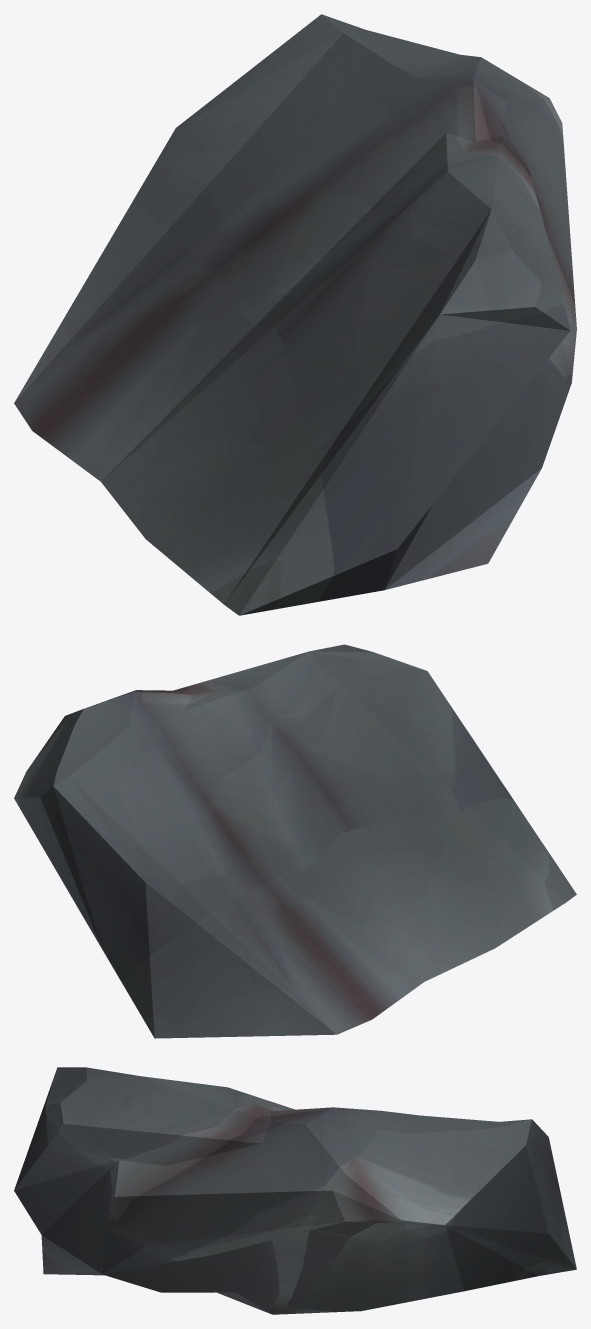
Rendered from SM_Kicker.fbx.
3 renders of one model, top to bottom at view 1: azimuth 30°, elevation 25°; view 2: azimuth 150°, elevation 25°; view 3: azimuth 270°, elevation 25°, orthographic. The views are drawn at different scales.
Parts seen in each view (by area): view 1: SM_Rock01; view 2: SM_Rock01; view 3: SM_Rock01.
Part boxes in pixels (<box>): SM_Rock01: <box>14,14,576,615</box>; SM_Rock01: <box>14,644,576,1038</box>; SM_Rock01: <box>14,1067,576,1314</box>.
Size of the model in its own units: 3.2 by 1.96 by 3.97.
